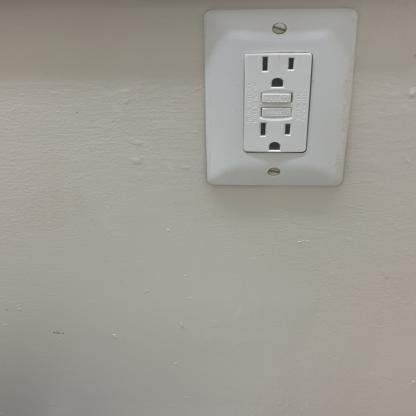OUTLET: (203, 8, 345, 186)
